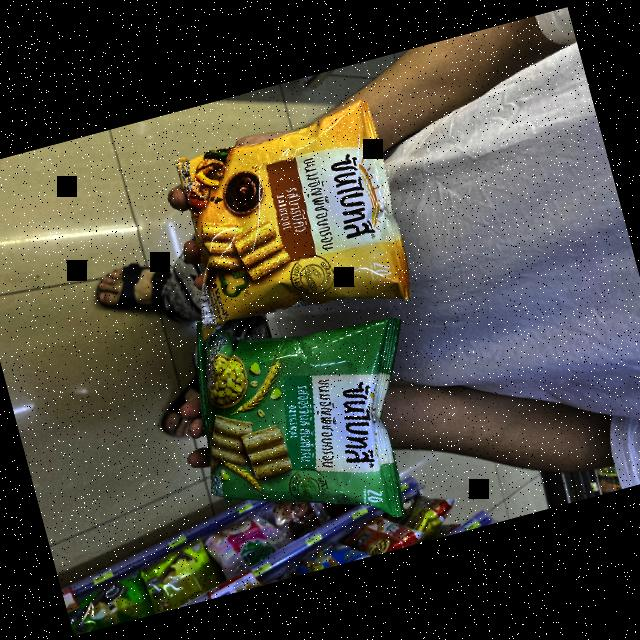snack_bag: (160, 272, 451, 568), (153, 76, 425, 334)
